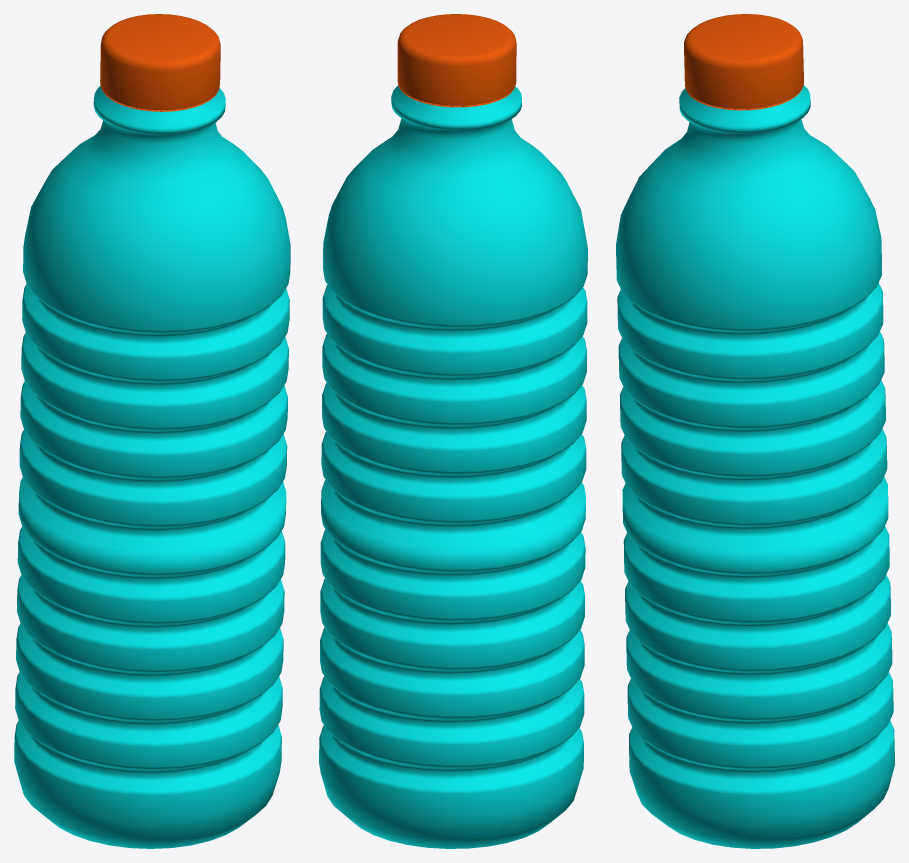
Rendered from bottle.fbx.
3 views of the same model, side by side, from view 1: azimuth 30°, elevation 25°; view 2: azimuth 150°, elevation 25°; view 3: azimuth 270°, elevation 25° (orthographic).
Parts seen in each view (by area): view 1: Cylinder.001; view 2: Cylinder.001; view 3: Cylinder.001.
Part boxes in pixels (bbox=[...]): Cylinder.001: bbox=[14, 14, 290, 848]; Cylinder.001: bbox=[319, 14, 587, 848]; Cylinder.001: bbox=[616, 14, 894, 848].
Size of the model in its own units: 9.55 by 30.5 by 9.92.
